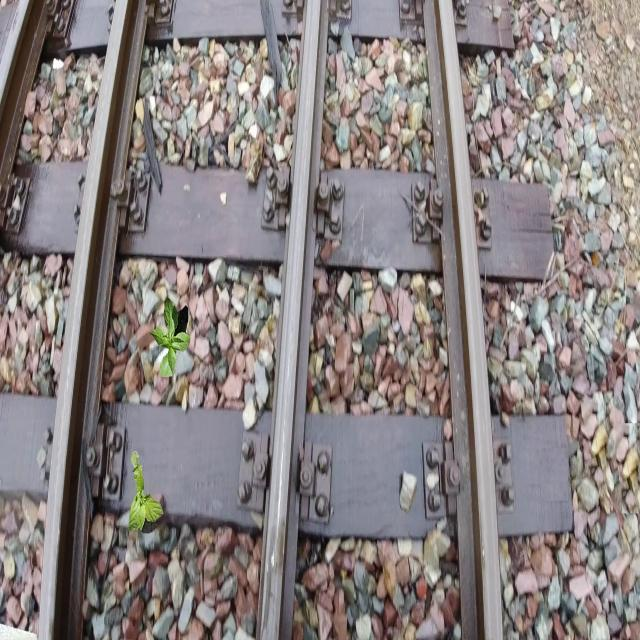Plant: (149, 298, 191, 378), (128, 450, 163, 534)
